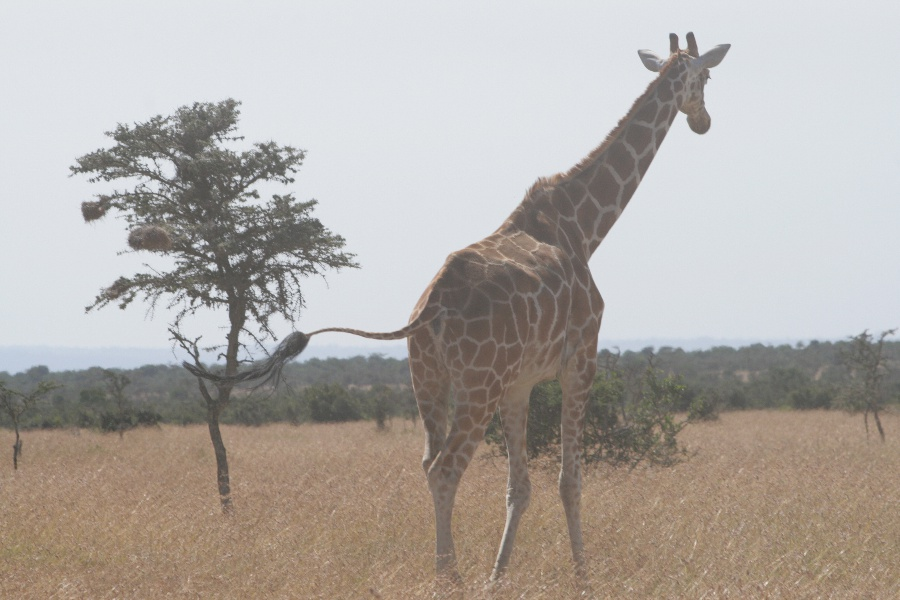giraffe: (380, 23, 741, 591)
